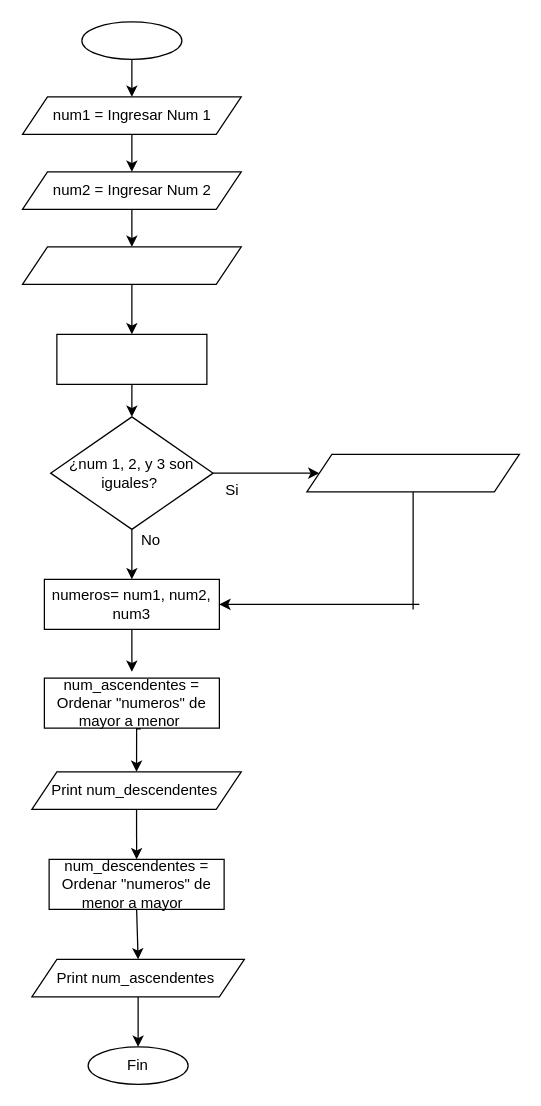
Some shapes in this 541 by 1106 pixel diagram are drawn without their labels. Each missing label, with the centre of its shape:
Inicio: pixel 131 40
num3 = Ingresar Num 3: pixel 131 265
Print "Números iguales": pixel 412 472
Transformar datos numéricos: pixel 131 358
